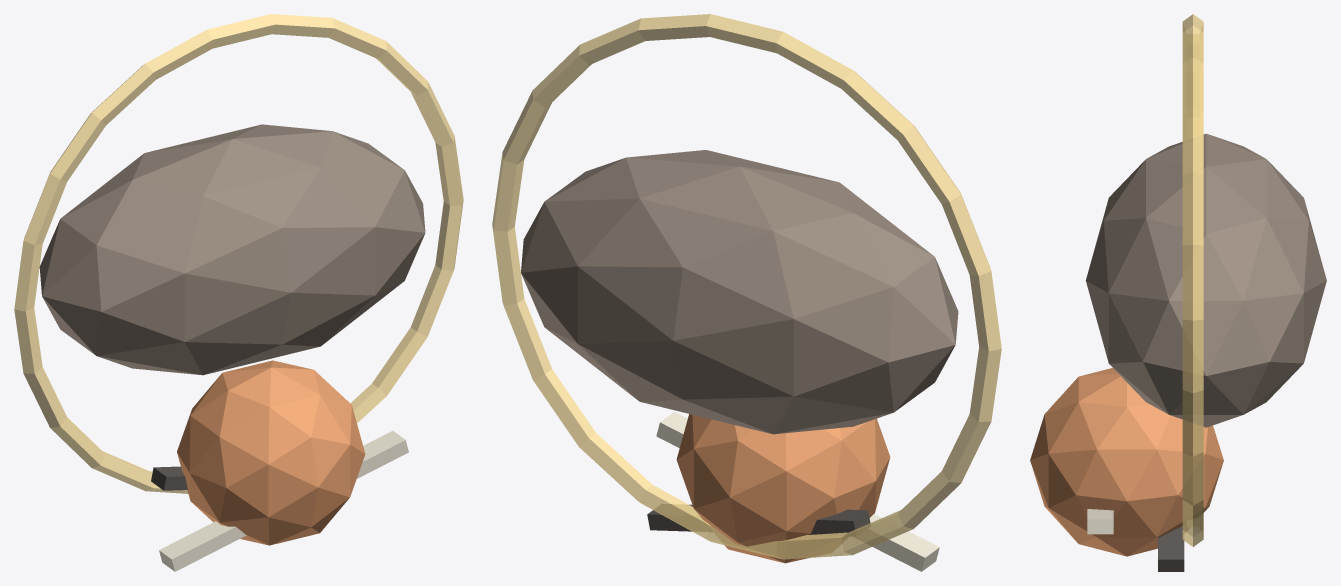
Rendered from 02_random_skin_projector.glb.
The picture shows the model from 3 angles, left to right: view 1: azimuth 30°, elevation 25°; view 2: azimuth 150°, elevation 25°; view 3: azimuth 270°, elevation 25°; orthographic projection. The views are drawn at different scales.
Visible parts, largest first — view 1: skin_preview_body, skin_preview_head, skin_shuffle_ring, pattern_stripe_a, pattern_stripe_b; view 2: skin_preview_body, skin_shuffle_ring, skin_preview_head, pattern_stripe_a, pattern_stripe_b; view 3: skin_preview_body, skin_preview_head, skin_shuffle_ring, pattern_stripe_b, pattern_stripe_a.
Boxes of the visible parts, box(x1,y1,x2,y2) form: skin_preview_body: box(39, 124, 425, 375); skin_preview_head: box(177, 360, 365, 545); skin_shuffle_ring: box(14, 14, 463, 493); pattern_stripe_a: box(159, 431, 408, 571); pattern_stripe_b: box(151, 466, 187, 490); skin_preview_body: box(521, 150, 958, 434); skin_shuffle_ring: box(492, 14, 1001, 559); skin_preview_head: box(676, 414, 890, 563); pattern_stripe_a: box(656, 411, 939, 571); pattern_stripe_b: box(647, 504, 870, 535); skin_preview_body: box(1085, 133, 1326, 427); skin_preview_head: box(1030, 368, 1223, 556); skin_shuffle_ring: box(1182, 14, 1203, 546); pattern_stripe_b: box(1158, 526, 1184, 571); pattern_stripe_a: box(1087, 509, 1113, 534).
Bounding box in the file's own units: 1.21 × 1.27 × 0.6736.
